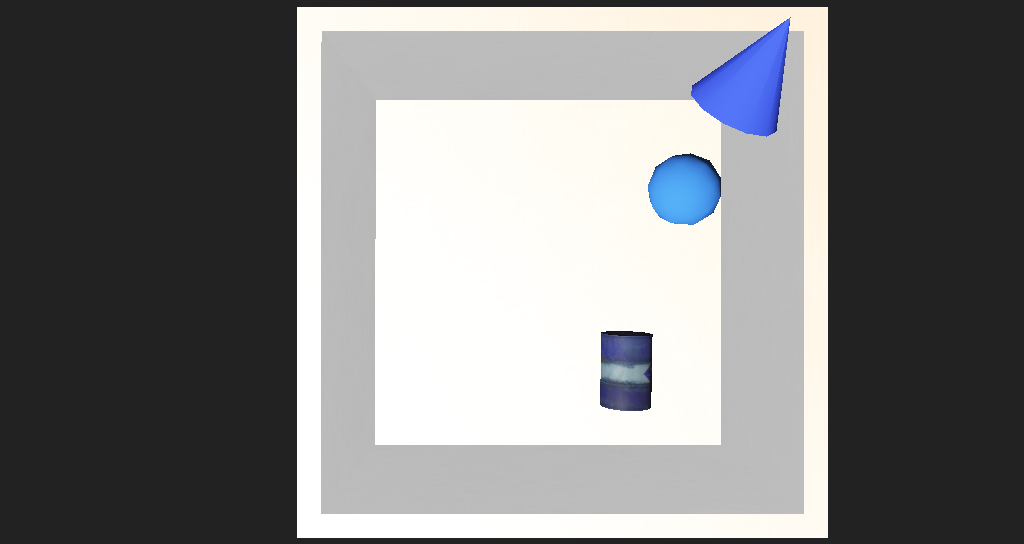cone: (546, 305, 600, 353)
cylinder: (606, 81, 741, 196)
sphere: (596, 198, 657, 241)
